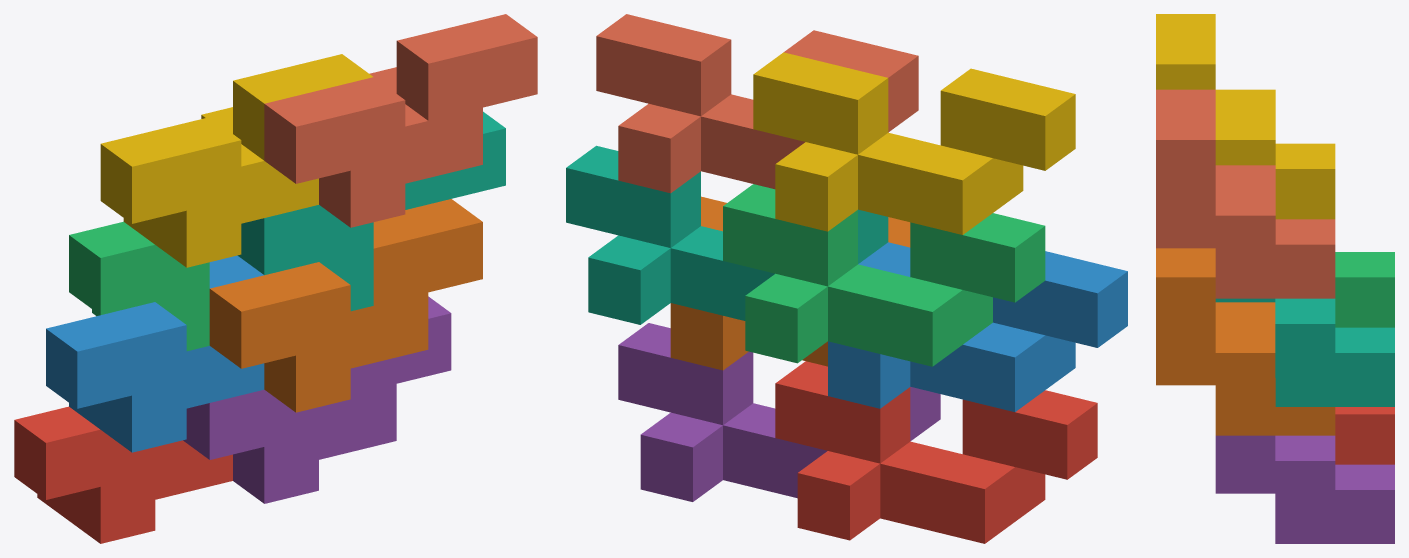
The model's file is tiling.obj.
3 views of the same model, side by side, from view 1: azimuth 30°, elevation 25°; view 2: azimuth 150°, elevation 25°; view 3: azimuth 270°, elevation 25° (orthographic). The views are drawn at different scales.
Parts seen in each view (by area): view 1: copy_1_domain_8, copy_1_domain_6, copy_1_domain_4, copy_1_domain_2, copy_1_domain_5, copy_1_domain_1, copy_1_domain_7, copy_1_domain_3; view 2: copy_1_domain_4, copy_1_domain_1, copy_1_domain_3, copy_1_domain_8, copy_1_domain_2, copy_1_domain_5, copy_1_domain_7, copy_1_domain_6; view 3: copy_1_domain_8, copy_1_domain_6, copy_1_domain_5, copy_1_domain_4, copy_1_domain_7, copy_1_domain_3, copy_1_domain_1.
Part boxes in pixels (x1,y1,x2,y2): copy_1_domain_8: (264,14,537,227); copy_1_domain_6: (209,199,482,412); copy_1_domain_4: (100,54,372,267); copy_1_domain_2: (46,255,264,452); copy_1_domain_5: (183,296,451,503); copy_1_domain_1: (14,406,232,543); copy_1_domain_7: (237,111,505,311); copy_1_domain_3: (69,221,209,351); copy_1_domain_4: (753,52,1075,234); copy_1_domain_1: (775,361,1097,543); copy_1_domain_3: (723,184,1045,366); copy_1_domain_8: (596,14,918,193); copy_1_domain_2: (828,242,1127,411); copy_1_domain_5: (618,323,940,501); copy_1_domain_7: (566,145,888,324); copy_1_domain_6: (670,196,910,370); copy_1_domain_8: (1156,89,1335,298); copy_1_domain_6: (1156,248,1335,435); copy_1_domain_5: (1215,435,1394,543); copy_1_domain_4: (1156,14,1335,219); copy_1_domain_7: (1215,298,1394,406); copy_1_domain_3: (1335,252,1394,327); copy_1_domain_1: (1335,407,1394,464).
Size of the model in its own units: 9 by 7 by 4.
